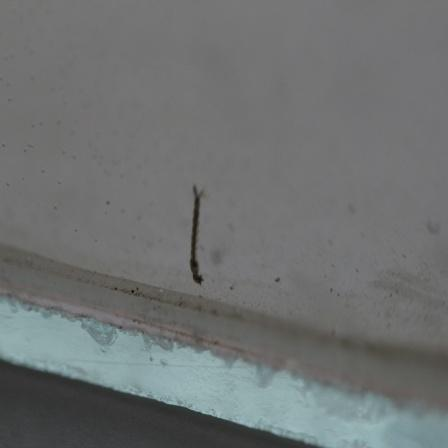Jentik-Nyamuk: (183, 179, 208, 287)
